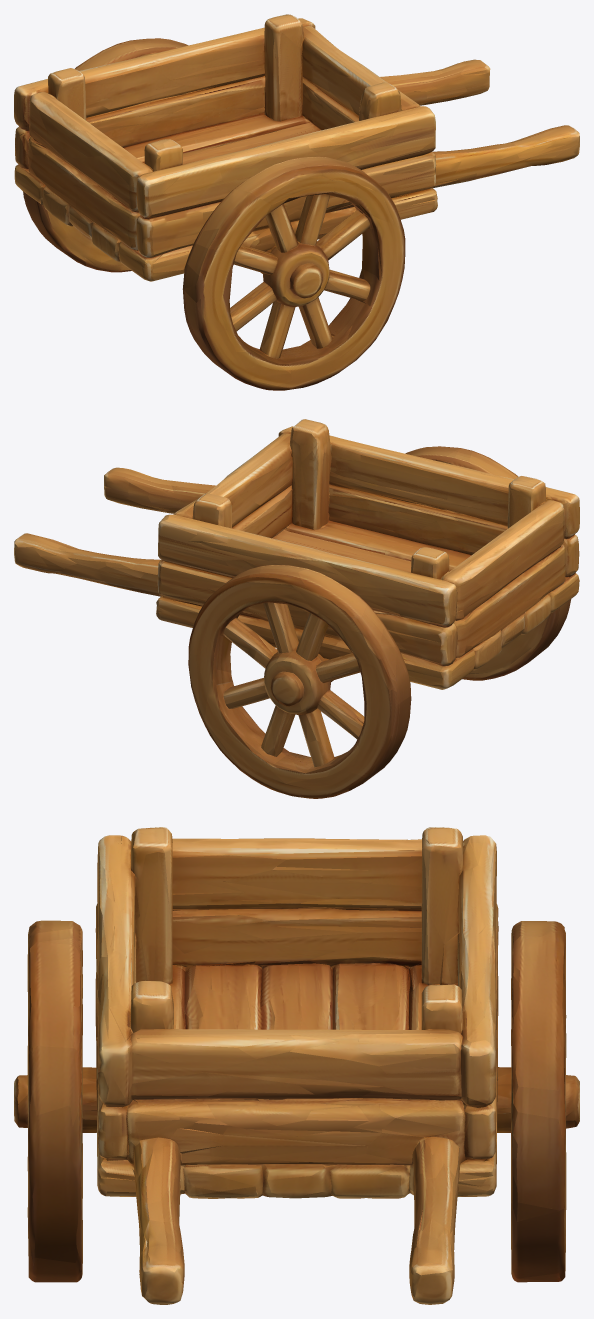
Rendered from cart.glb.
The picture shows the model from 3 angles, top to bottom: view 1: azimuth 30°, elevation 25°; view 2: azimuth 150°, elevation 25°; view 3: azimuth 270°, elevation 25°; orthographic projection. The views are drawn at different scales.
Bounding box in the file's own units: 1.9 × 0.9765 × 1.37.
1 material, 1 textured.
